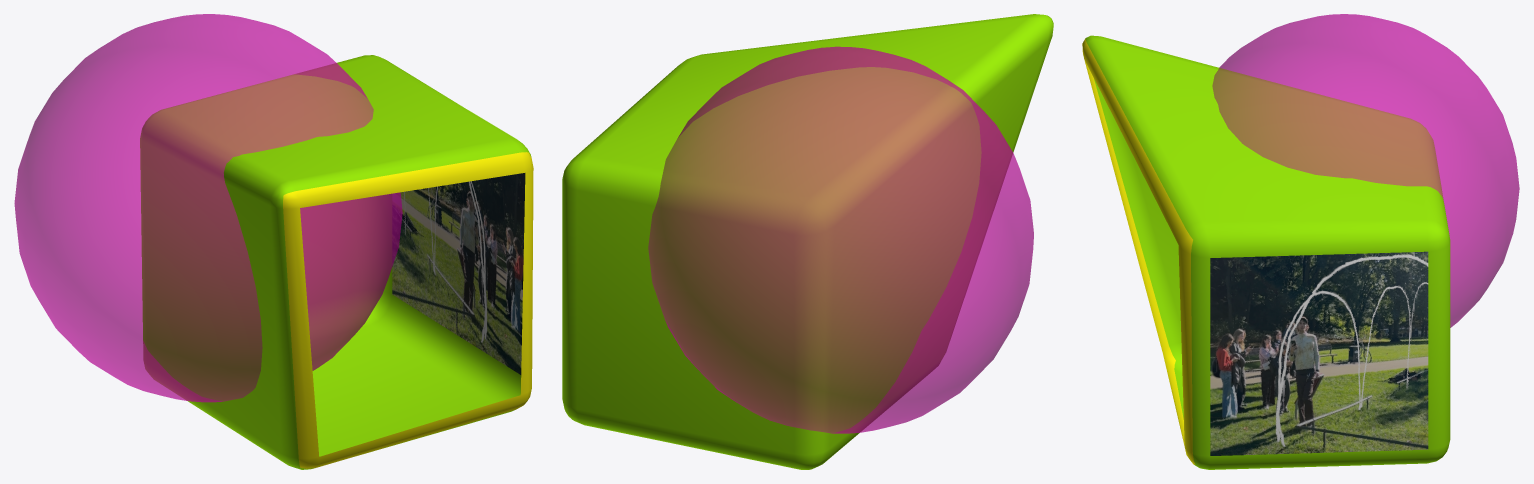
The picture shows the model from 3 angles, left to right: view 1: azimuth 30°, elevation 25°; view 2: azimuth 150°, elevation 25°; view 3: azimuth 270°, elevation 25°; orthographic projection. The views are drawn at different scales.
Visible parts, largest first — view 1: Cube, Sphere, Cube.001; view 2: Cube, Sphere, Cube.001; view 3: Cube, Sphere, Cube.001.
Boxes of the visible parts, x1=… form: Cube: x1=140, y1=55, x2=533, y2=469; Sphere: x1=14, y1=14, x2=402, y2=402; Cube.001: x1=141, y1=55, x2=533, y2=469; Cube: x1=562, y1=14, x2=1053, y2=469; Sphere: x1=648, y1=46, x2=1033, y2=433; Cube.001: x1=562, y1=14, x2=1052, y2=469; Cube: x1=1082, y1=35, x2=1450, y2=469; Sphere: x1=1212, y1=14, x2=1519, y2=327; Cube.001: x1=1083, y1=37, x2=1450, y2=469.
Bounding box in the file's own units: 3.23 × 2.81 × 3.28.
4 materials, 1 textured.
